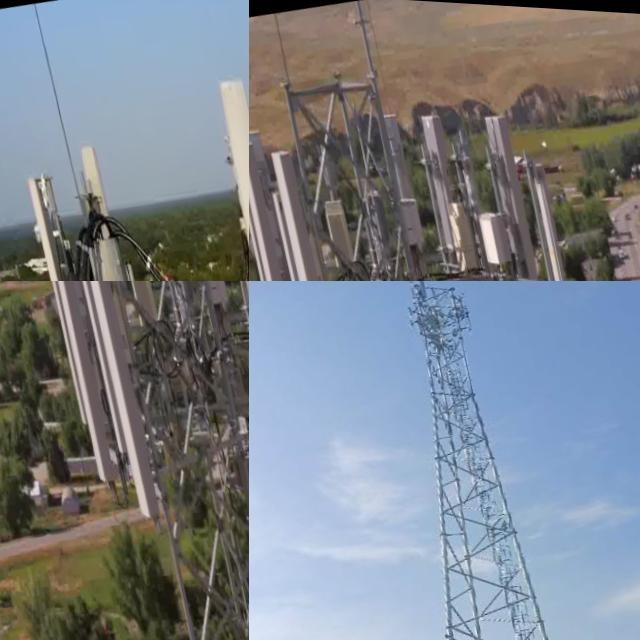GSM Antenna: (69, 281, 166, 527), (32, 281, 129, 507), (411, 84, 506, 281), (477, 100, 570, 281), (265, 128, 362, 281), (249, 131, 325, 281), (199, 62, 249, 281), (23, 168, 105, 281), (37, 281, 91, 434), (77, 138, 133, 281), (527, 150, 587, 281), (249, 164, 287, 281), (314, 154, 356, 240), (398, 298, 421, 326), (413, 281, 431, 298)
Microwave Antenna: (443, 296, 469, 319)
